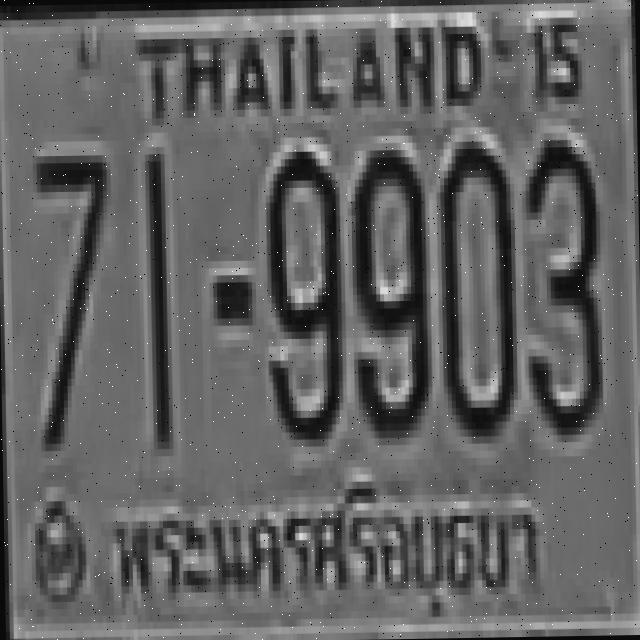0: (435, 133, 514, 430)
1: (140, 150, 169, 446)
3: (520, 132, 600, 428)
7: (32, 148, 107, 444)
9: (264, 143, 340, 440), (350, 142, 425, 431)
Ayutthaya: (105, 469, 553, 618)
